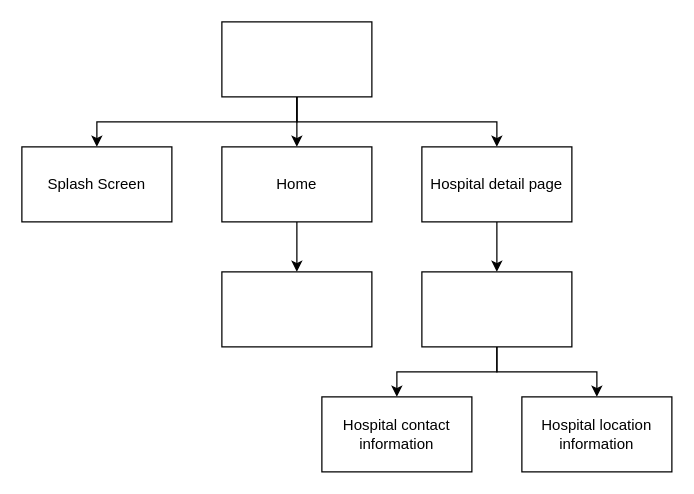
Image size: 694x494. Some labels were removed from this diagram. Here are the shapes that lost their labels. From the top down, the centre of each, then its label:
At (296,59): "CareHub".
At (296,309): "Hospilal list".
At (496,309): "Hospital information".
